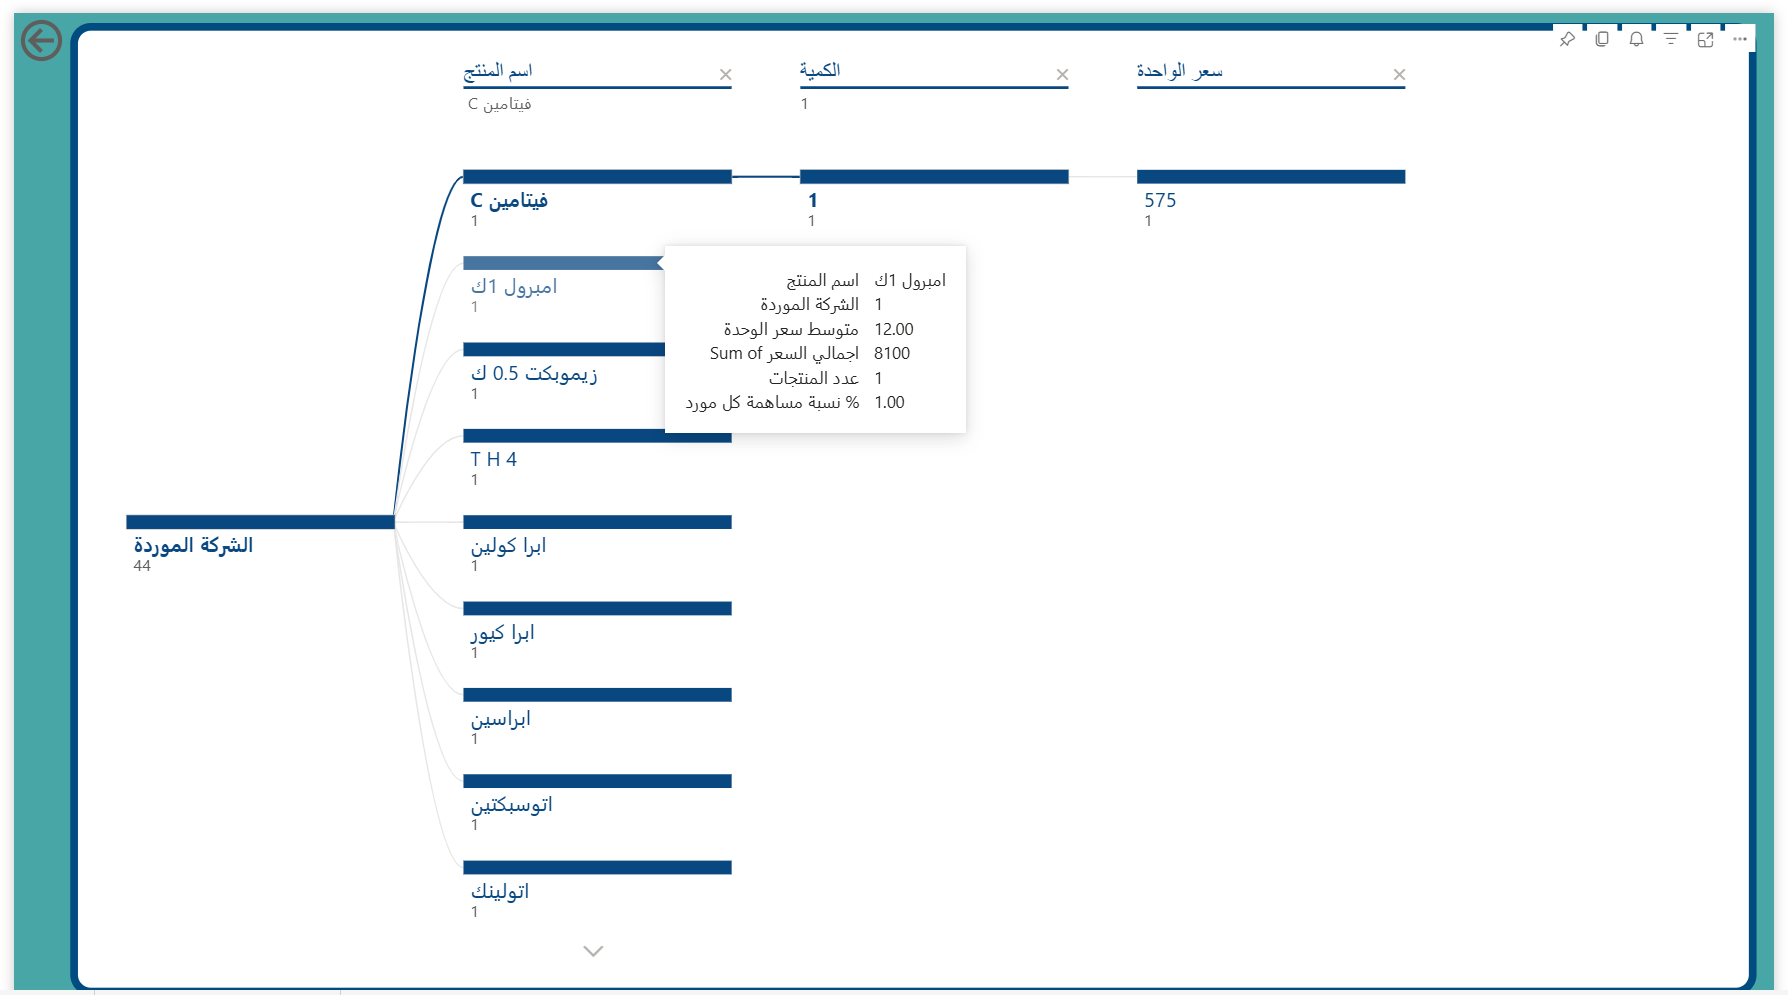

The page's visual inventory and layout, read from the dashboard file:
{"tool":"powerbi","page":{"name":"WHY","canvas":[1280,720],"ordinal":4},"visuals":[{"type":"actionButton","box":[0,0,100,40],"z":0},{"type":"decompositionTreeVisual","title":"الموارد","fields":{"Analyze":["CountNonNull(المخزون.الشركة الموردة )"],"ExplainBy":["المخزون.اسم المنتج","المخزون.الكمية","المخزون.سعر الواحدة "]},"box":[40.7,7,1226.7,707],"z":1000}]}

Visuals, with their boxes in screenshot pixels (x1, y1, x2, y2):
actionButton: [x1=19, y1=14, x2=155, y2=69]
"الموارد" decompositionTreeVisual: [x1=74, y1=24, x2=1748, y2=988]
